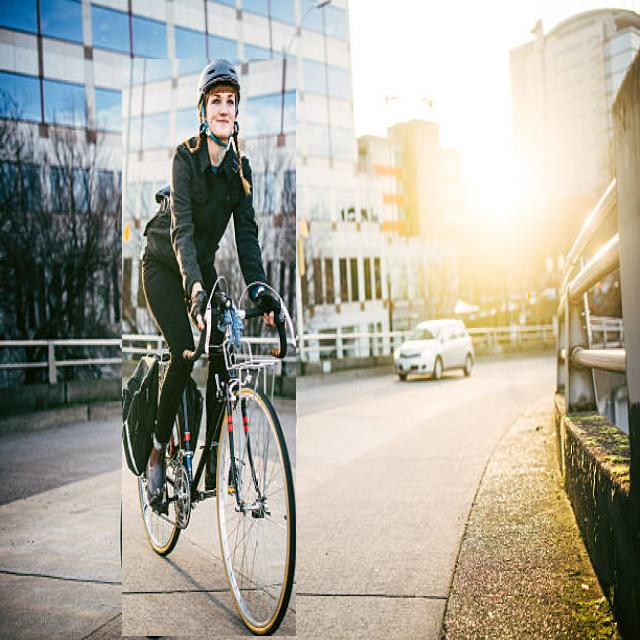bicycle: (122, 60, 295, 636)
